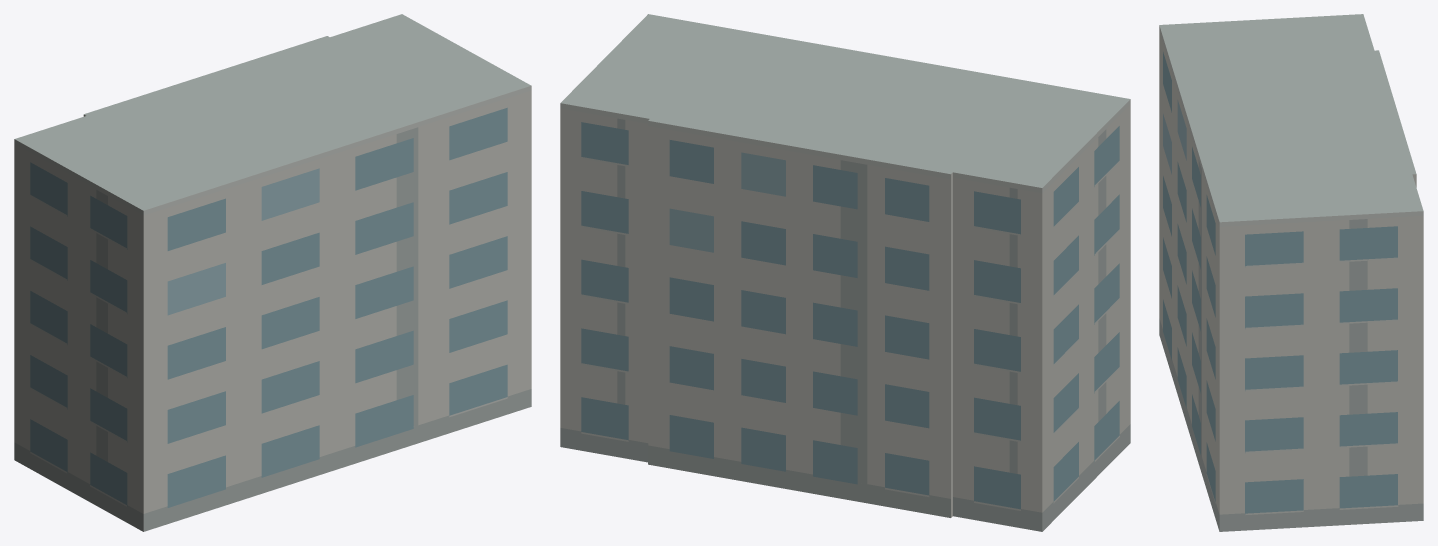
The model's file is survey-upis-32707562.glb.
3 views of the same model, side by side, from view 1: azimuth 30°, elevation 25°; view 2: azimuth 150°, elevation 25°; view 3: azimuth 270°, elevation 25° (orthographic). The views are drawn at different scales.
Parts seen in each view (by area): view 1: survey-upis-32707562.tmp; view 2: survey-upis-32707562.tmp; view 3: survey-upis-32707562.tmp.
Part boxes in pixels (left/top/right/bottom): survey-upis-32707562.tmp: left=14, top=14, right=531, bottom=531; survey-upis-32707562.tmp: left=560, top=14, right=1130, bottom=531; survey-upis-32707562.tmp: left=1159, top=14, right=1423, bottom=531.
Size of the model in its own units: 22.66 by 15.7 by 12.16.
